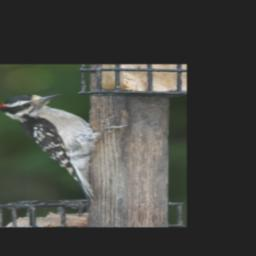Woodpecker: (0, 94, 128, 203)
